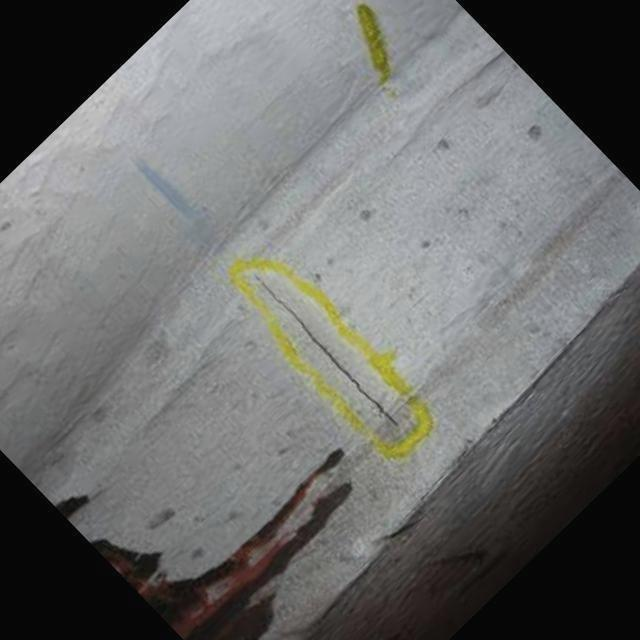defect: (248, 266, 401, 428)
